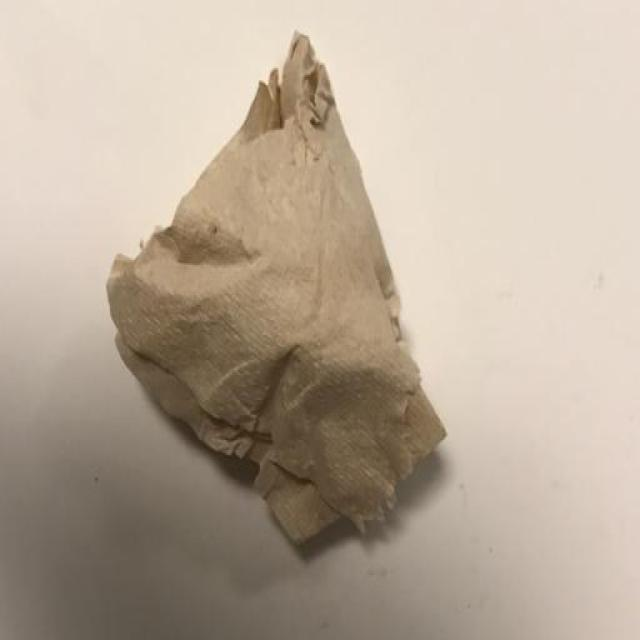Random Trash: (105, 30, 448, 562)
